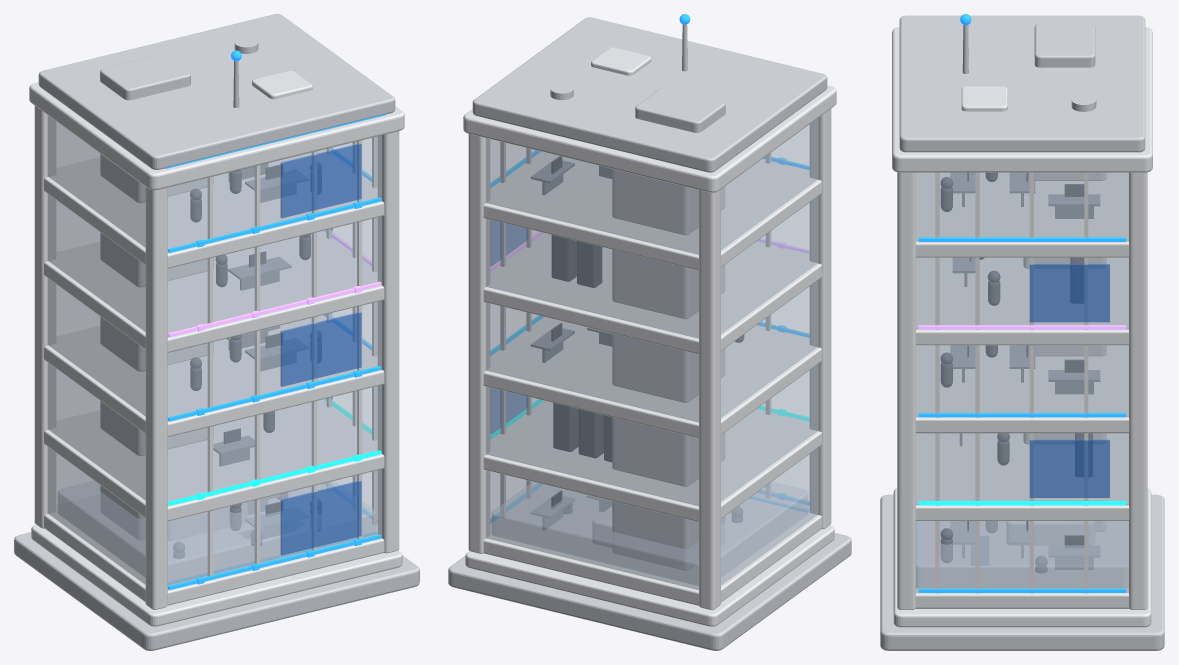
Rendered from fintech-hq.glb.
The picture shows the model from 3 angles, left to right: view 1: azimuth 30°, elevation 25°; view 2: azimuth 150°, elevation 25°; view 3: azimuth 270°, elevation 25°; orthographic projection. The views are drawn at different scales.
Visible parts, largest first — view 1: roof_parapet, glass_volume_4, glass_volume_2, glass_volume_1, glass_volume_3, glass_volume_5, floor_slab_2, floor_slab_4, floor_slab_3, floor_slab_5, floor_slab_1, lobby_glass (+25 smaller); view 2: roof_parapet, glass_volume_2, glass_volume_1, glass_volume_3, glass_volume_4, glass_volume_5, floor_slab_3, floor_slab_5, floor_slab_4, floor_slab_1, floor_slab_2, lobby_glass (+20 smaller); view 3: roof_parapet, floor_slab_2, floor_slab_4, glass_volume_4, floor_slab_3, glass_volume_1, glass_volume_3, glass_volume_2, floor_slab_5, glass_volume_5, lobby_glass, floor_slab_1 (+31 smaller).
Part boxes in pixels (<box>): roof_parapet: <box>38,14,395,169</box>; glass_volume_4: <box>47,194,381,336</box>; glass_volume_2: <box>47,363,381,505</box>; glass_volume_1: <box>47,447,381,589</box>; glass_volume_3: <box>47,278,381,420</box>; glass_volume_5: <box>47,115,381,252</box>; floor_slab_2: <box>44,399,384,521</box>; floor_slab_4: <box>44,231,384,352</box>; floor_slab_3: <box>44,315,384,436</box>; floor_slab_5: <box>44,149,384,268</box>; floor_slab_1: <box>44,484,384,605</box>; lobby_glass: <box>58,481,375,584</box>; roof_parapet: <box>472,17,827,172</box>; glass_volume_2: <box>486,364,818,506</box>; glass_volume_1: <box>486,448,818,589</box>; glass_volume_3: <box>486,280,818,422</box>; glass_volume_4: <box>486,196,818,338</box>; glass_volume_5: <box>486,118,818,254</box>; floor_slab_3: <box>483,317,821,438</box>; floor_slab_5: <box>483,151,821,270</box>; floor_slab_4: <box>483,233,821,354</box>; floor_slab_1: <box>483,485,821,605</box>; floor_slab_2: <box>483,400,821,521</box>; lobby_glass: <box>492,482,807,585</box>; roof_parapet: <box>899,15,1145,152</box>; floor_slab_2: <box>915,433,1129,520</box>; floor_slab_4: <box>915,257,1129,345</box>; glass_volume_4: <box>916,257,1128,329</box>; floor_slab_3: <box>915,345,1129,433</box>; glass_volume_1: <box>916,521,1128,592</box>; glass_volume_3: <box>916,345,1128,416</box>; glass_volume_2: <box>916,433,1128,504</box>; floor_slab_5: <box>915,172,1129,257</box>; glass_volume_5: <box>916,172,1128,241</box>; lobby_glass: <box>916,521,1128,588</box>; floor_slab_1: <box>915,521,1129,608</box>.
Bounding box in the file's own units: 7.02 × 13.15 × 6.02.
